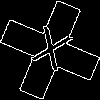X: (25, 25, 74, 81)
